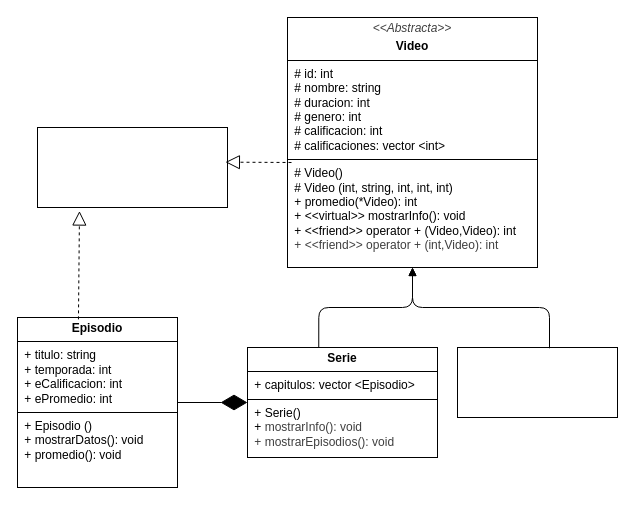
The diagram is 635 pixels wide and 505 high, and some of its shapes have lost their labels. Each missing label, with the centre of its shape:
"<<Interfaz>> Calificable # calificar(int): void # promedio (): int" belongs at pixel 132 167.
"Pelicula + Pelicula() + mostrarInfo(): void" belongs at pixel 537 382.
